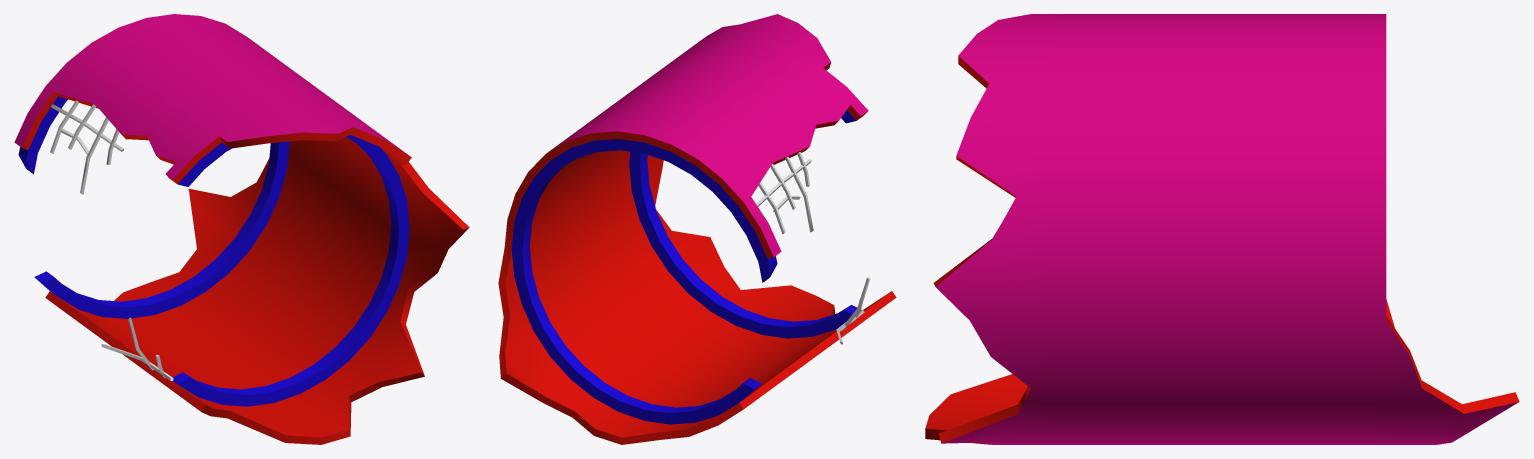
Rendered from Hull2.fbx.
The picture shows the model from 3 angles, left to right: view 1: azimuth 30°, elevation 25°; view 2: azimuth 150°, elevation 25°; view 3: azimuth 270°, elevation 25°; orthographic projection. The views are drawn at different scales.
Visible parts, largest first — view 1: Main, sticks; view 2: Main, sticks; view 3: Main.
Boxes of the visible parts, <box> form: Main: <box>14,14,469,444</box>; sticks: <box>50,100,173,380</box>; Main: <box>498,14,896,444</box>; sticks: <box>756,152,870,344</box>; Main: <box>925,14,1519,444</box>.
Bounding box in the file's own units: 294 × 297 × 409.
